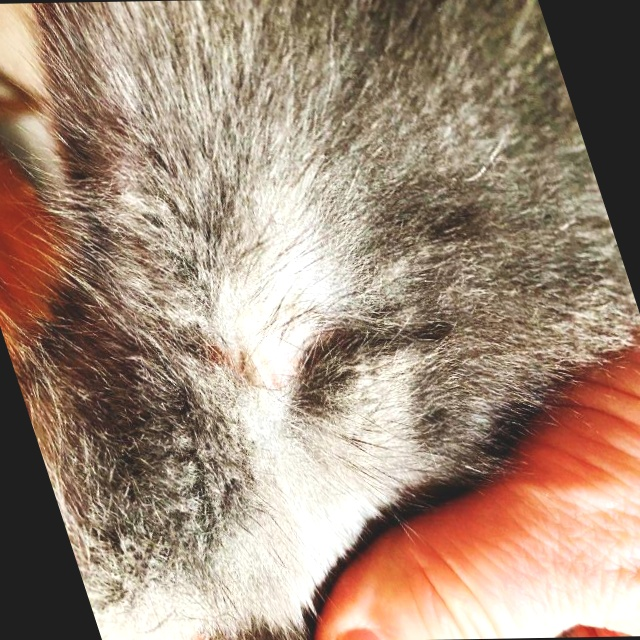hairloss: (190, 307, 344, 403)
